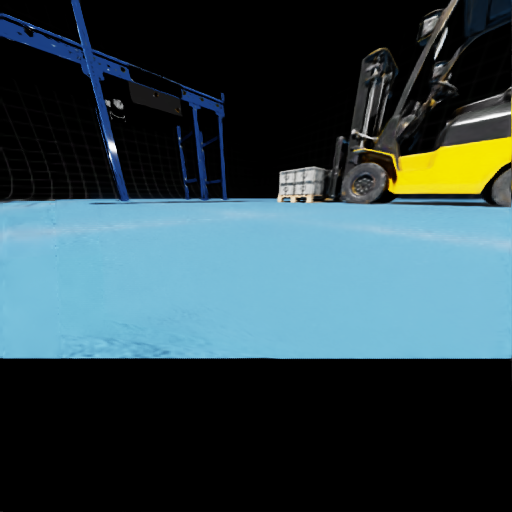transportation_area: (294, 181, 328, 194), (18, 32, 20, 34), (107, 65, 109, 66), (83, 56, 84, 57), (7, 22, 8, 23)
